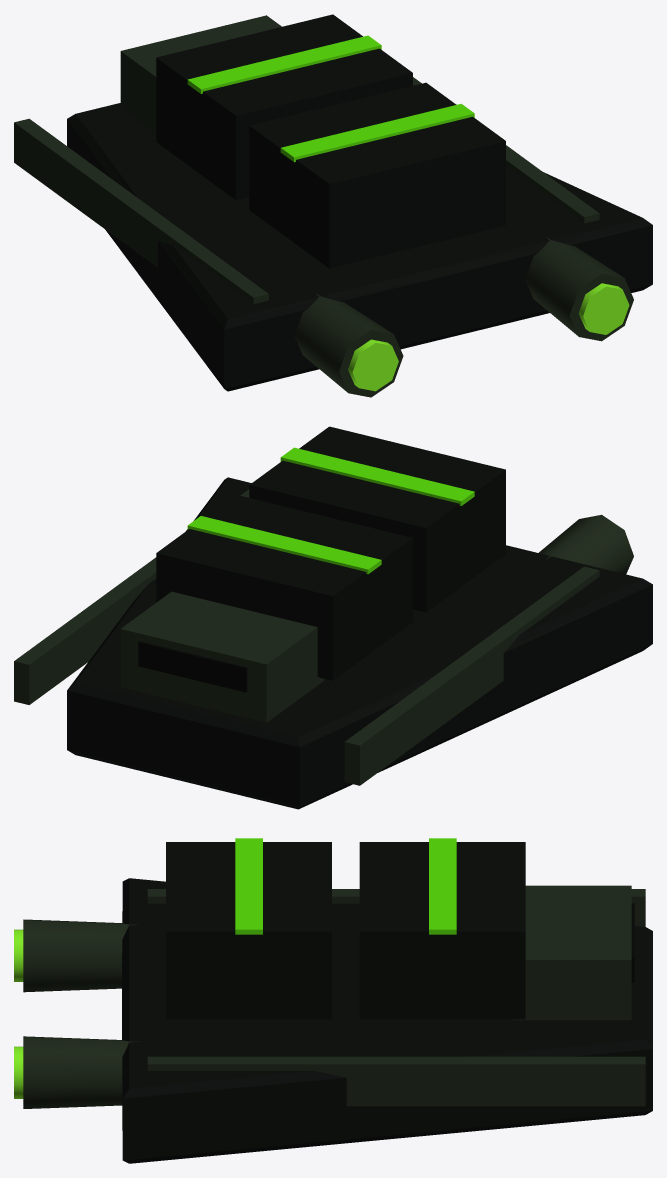
The model's file is Hauler.obj.
3 renders of one model, top to bottom at view 1: azimuth 30°, elevation 25°; view 2: azimuth 150°, elevation 25°; view 3: azimuth 270°, elevation 25°, orthographic. The views are drawn at different scales.
Parts seen in each view (by area): view 1: hauler_hull, hauler_container_0, hauler_container_1, hauler_rail, hauler_engine_nacelle, hauler_cab, hauler_engine_bell, hauler_containerband_1, hauler_containerband_0; view 2: hauler_hull, hauler_container_1, hauler_container_0, hauler_rail, hauler_cab, hauler_engine_nacelle, hauler_containerband_0, hauler_containerband_1, hauler_cabglass; view 3: hauler_hull, hauler_container_1, hauler_container_0, hauler_rail, hauler_cab, hauler_engine_nacelle, hauler_containerband_0, hauler_containerband_1, hauler_engine_bell.
Part boxes in pixels (x1,y1,x2,y2): hauler_hull: (67, 103, 652, 391); hauler_container_0: (249, 82, 505, 268); hauler_container_1: (156, 14, 412, 200); hauler_rail: (14, 77, 599, 303); hauler_engine_nacelle: (294, 237, 633, 397); hauler_cab: (120, 15, 281, 134); hauler_engine_bell: (348, 283, 629, 391); hauler_containerband_1: (187, 35, 381, 93); hauler_containerband_0: (280, 103, 474, 162); hauler_hull: (67, 477, 652, 809); hauler_container_1: (156, 494, 412, 680); hauler_container_0: (249, 426, 505, 612); hauler_rail: (14, 489, 599, 785); hauler_cab: (120, 591, 324, 722); hauler_engine_nacelle: (539, 514, 633, 574); hauler_containerband_0: (280, 447, 474, 505); hauler_containerband_1: (187, 516, 381, 574); hauler_cabglass: (138, 641, 247, 692); hauler_hull: (122, 878, 652, 1163); hauler_container_1: (359, 842, 525, 1019); hauler_container_0: (166, 842, 331, 1019); hauler_rail: (147, 889, 645, 1106); hauler_cab: (512, 885, 631, 1020); hauler_engine_nacelle: (23, 919, 139, 1108); hauler_containerband_0: (235, 838, 262, 934); hauler_containerband_1: (429, 838, 456, 934); hauler_engine_bell: (14, 929, 23, 1098).
Size of the model in its own units: 46.21 by 17.32 by 57.42.
